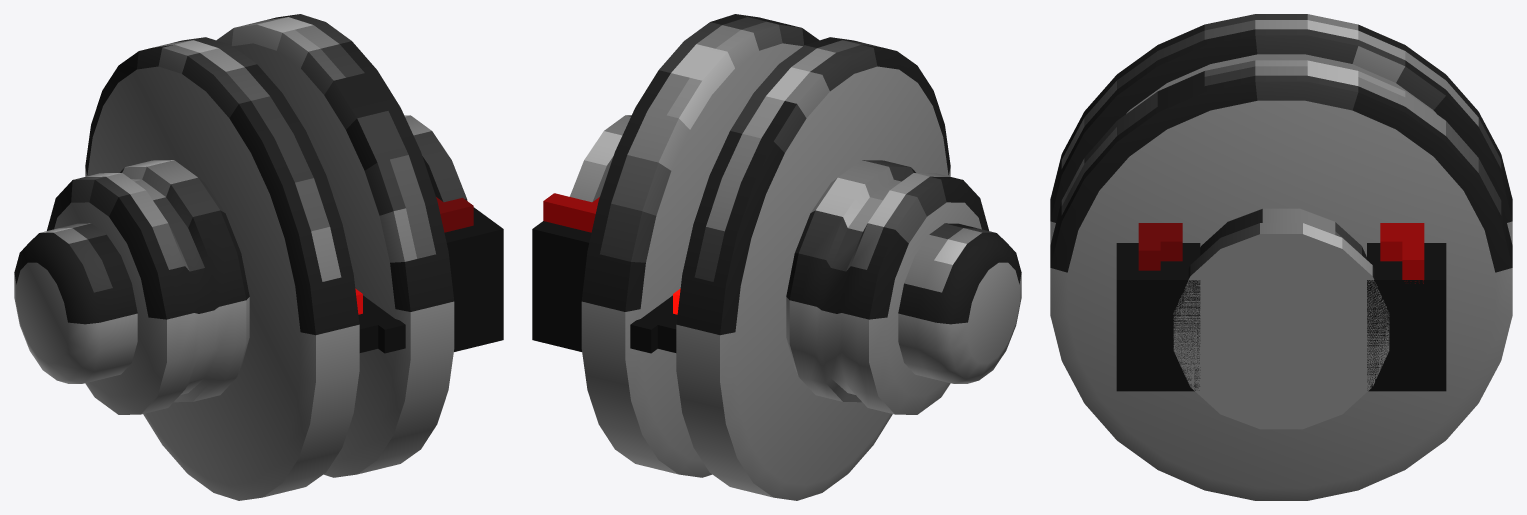
File: newshl-24.glb
The picture shows the model from 3 angles, left to right: view 1: azimuth 30°, elevation 25°; view 2: azimuth 150°, elevation 25°; view 3: azimuth 270°, elevation 25°; orthographic projection.
Parts seen in each view (by area): view 1: newshl-24; view 2: newshl-24; view 3: newshl-24.
Boxes of the visible parts, left/top/right/bottom form: newshl-24: left=14, top=14, right=503, bottom=500; newshl-24: left=532, top=14, right=1021, bottom=500; newshl-24: left=1050, top=14, right=1512, bottom=500.
Bounding box in the file's own units: 1.67 × 1.76 × 1.76.
